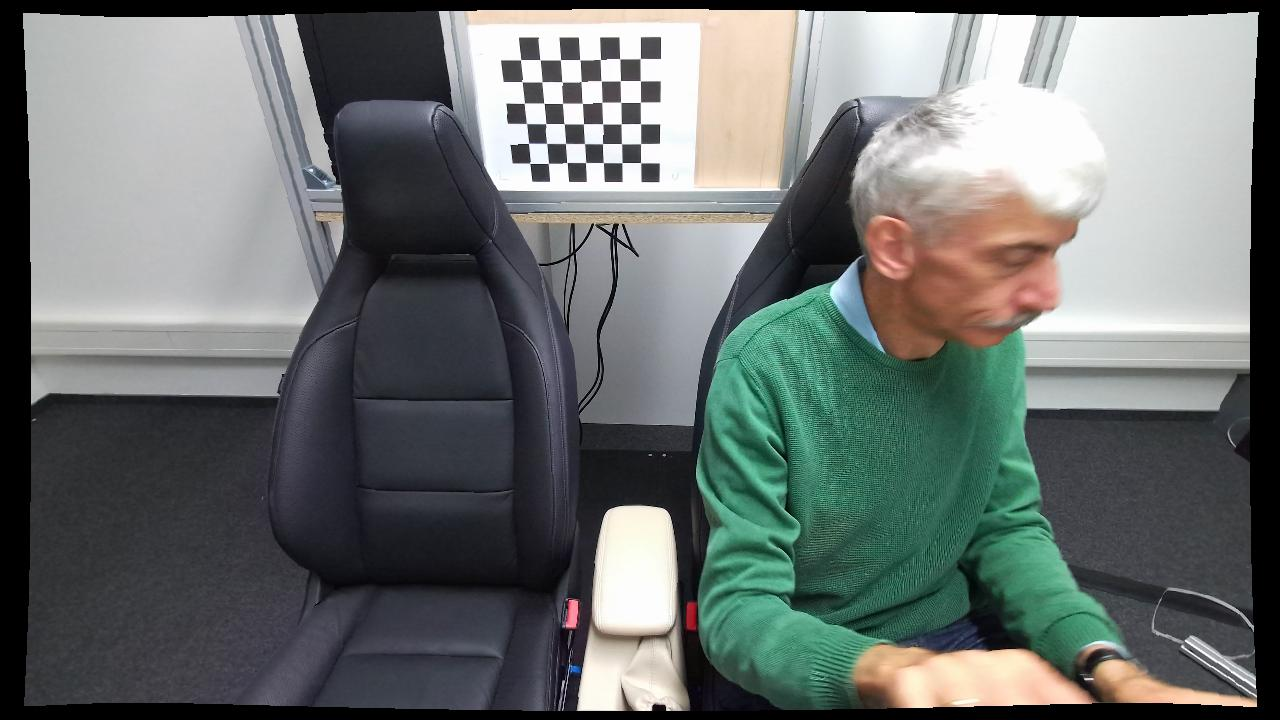Distracted: (700, 87, 1196, 704)
